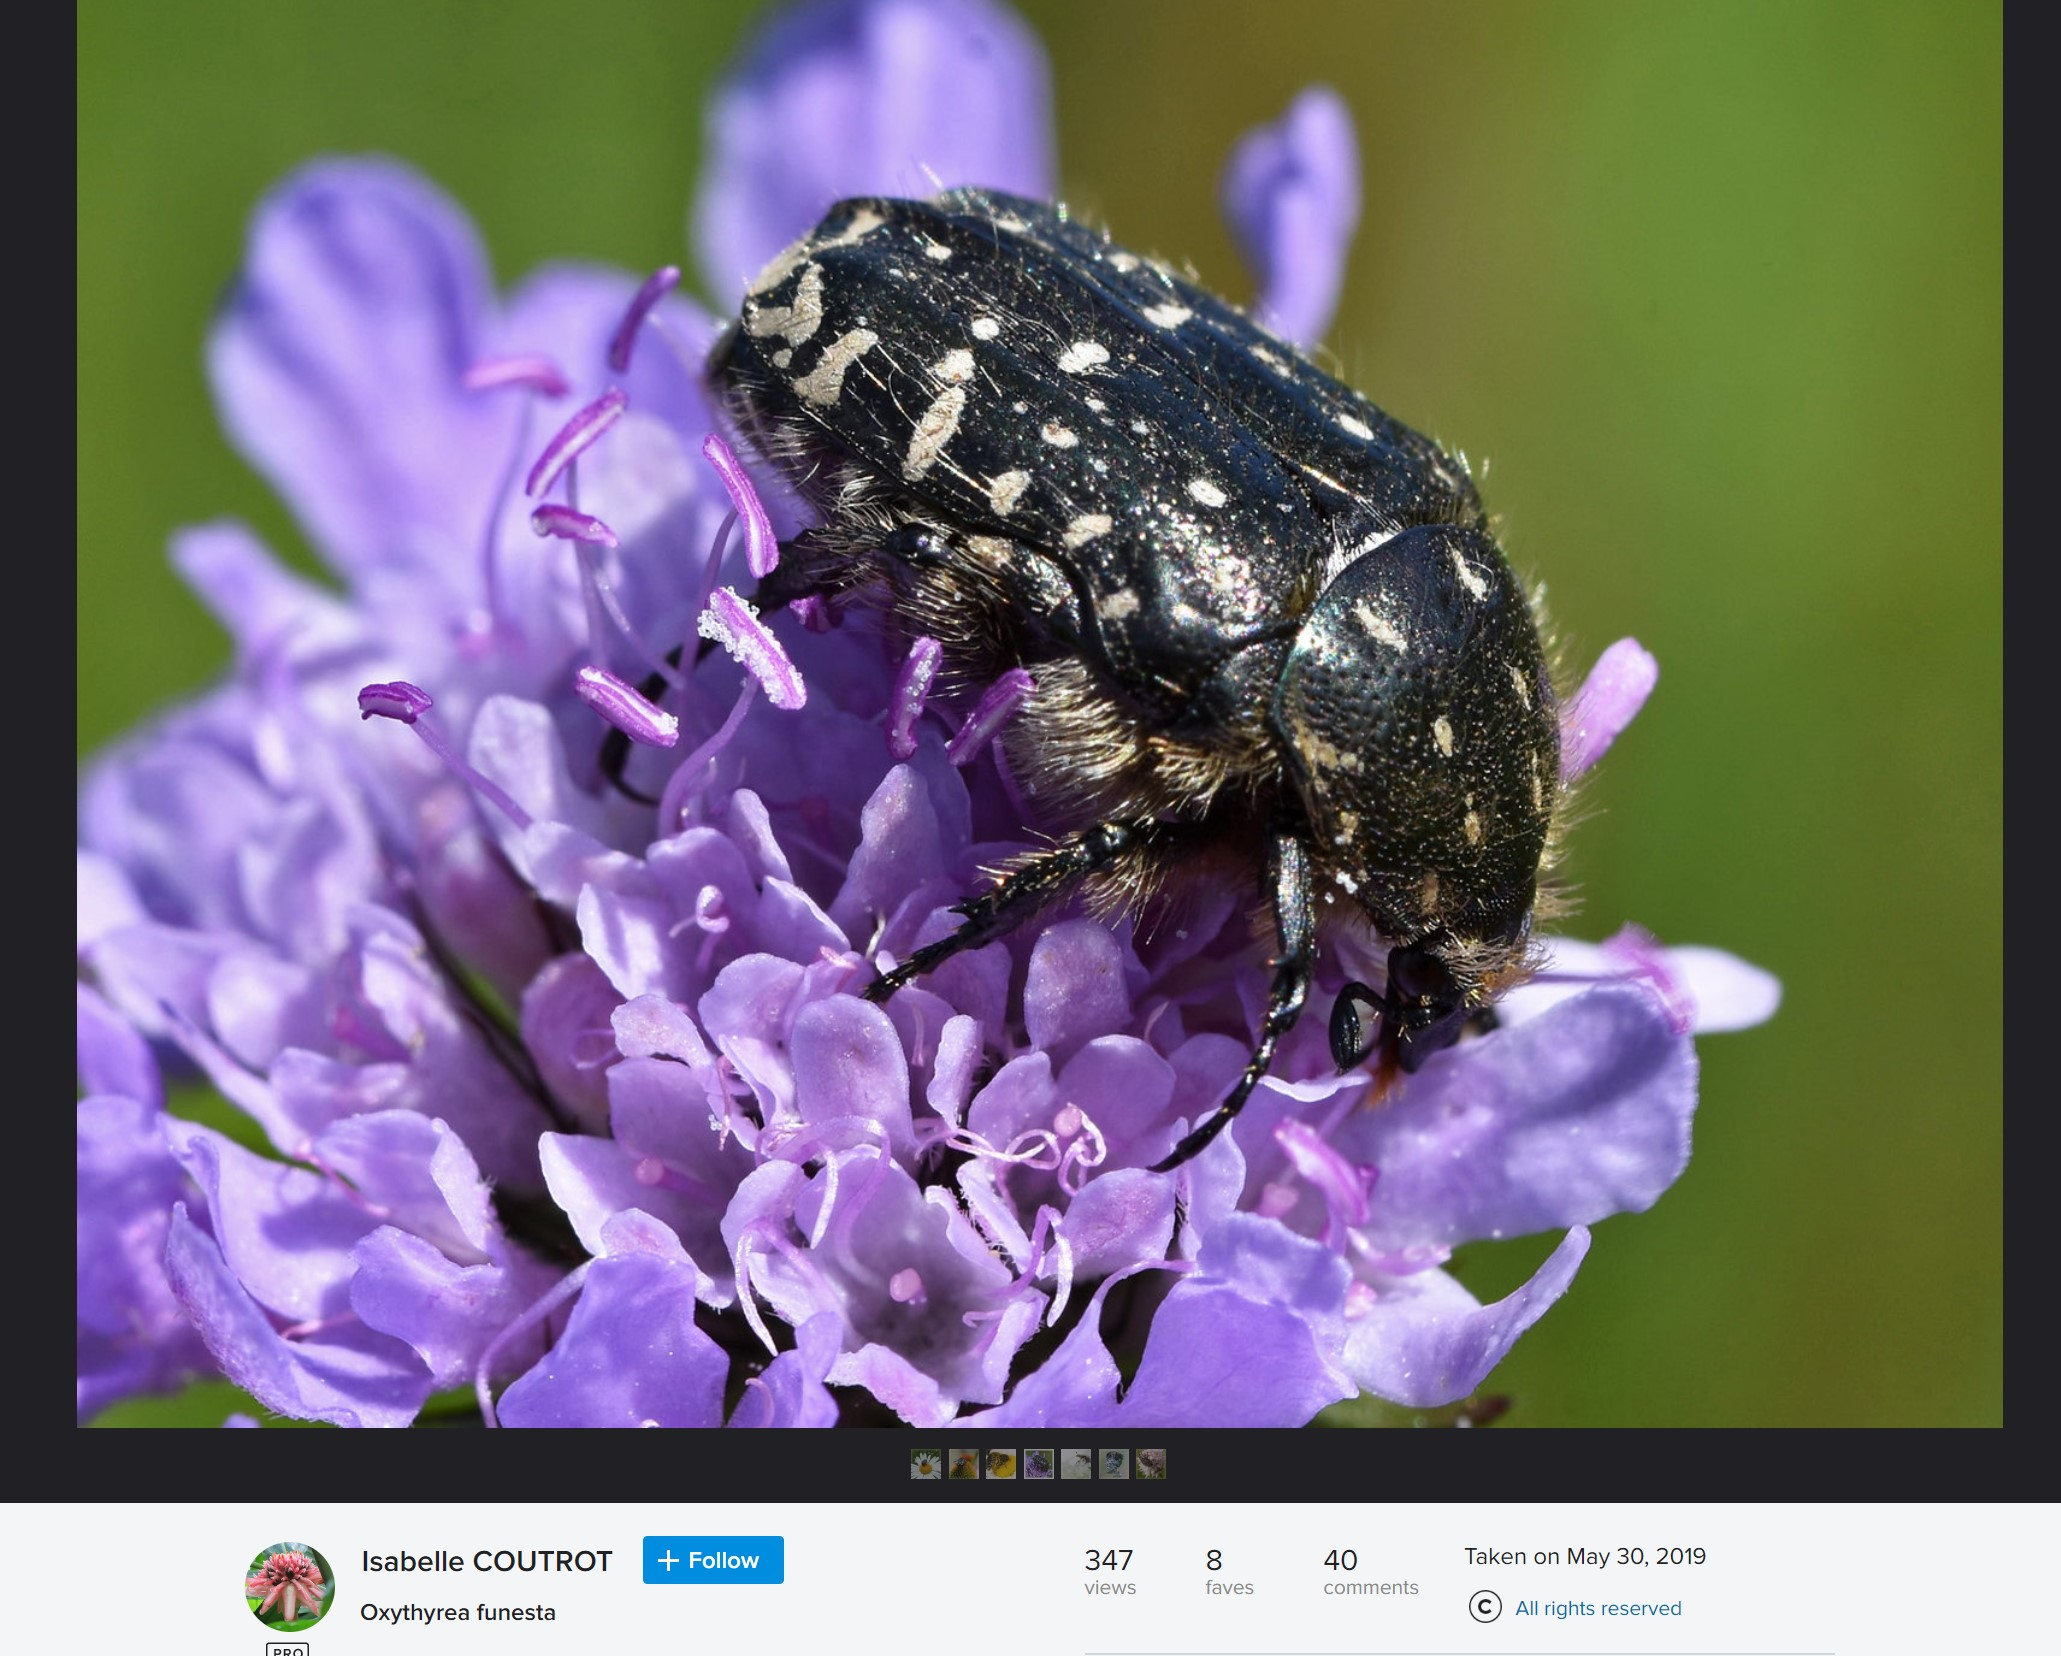Oxythyrea_funesta: (547, 139, 1610, 1097)
